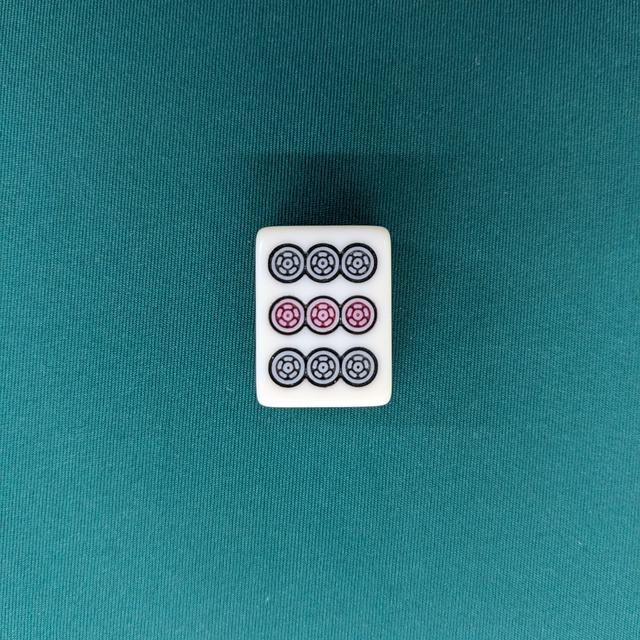9p: (253, 223, 394, 410)
